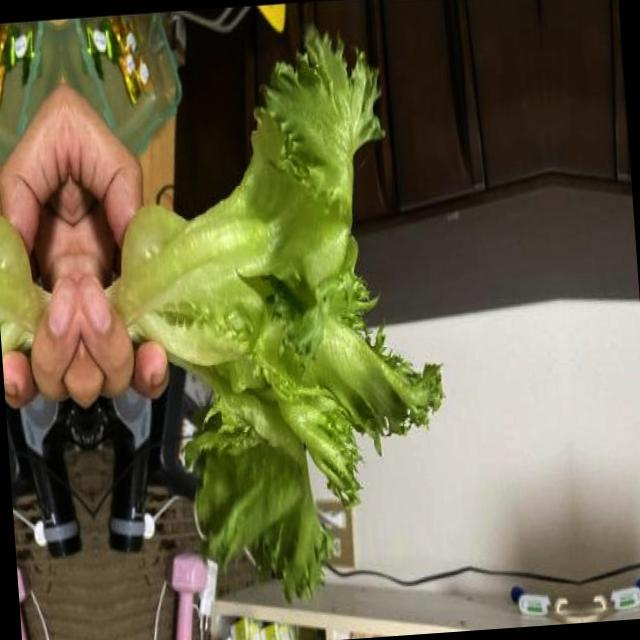healthy: (87, 18, 458, 614), (0, 45, 73, 621)
